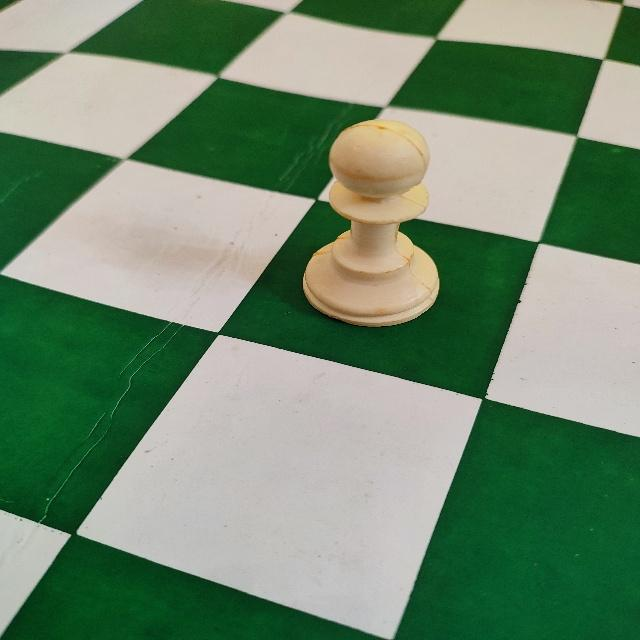Pawn: (300, 118, 440, 332)
